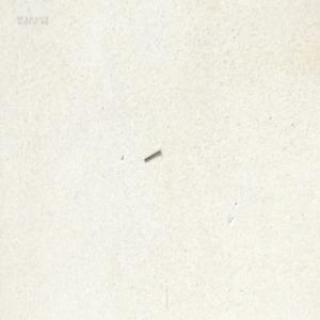Bolttrack_idkeyframe: (142, 146, 160, 161)
